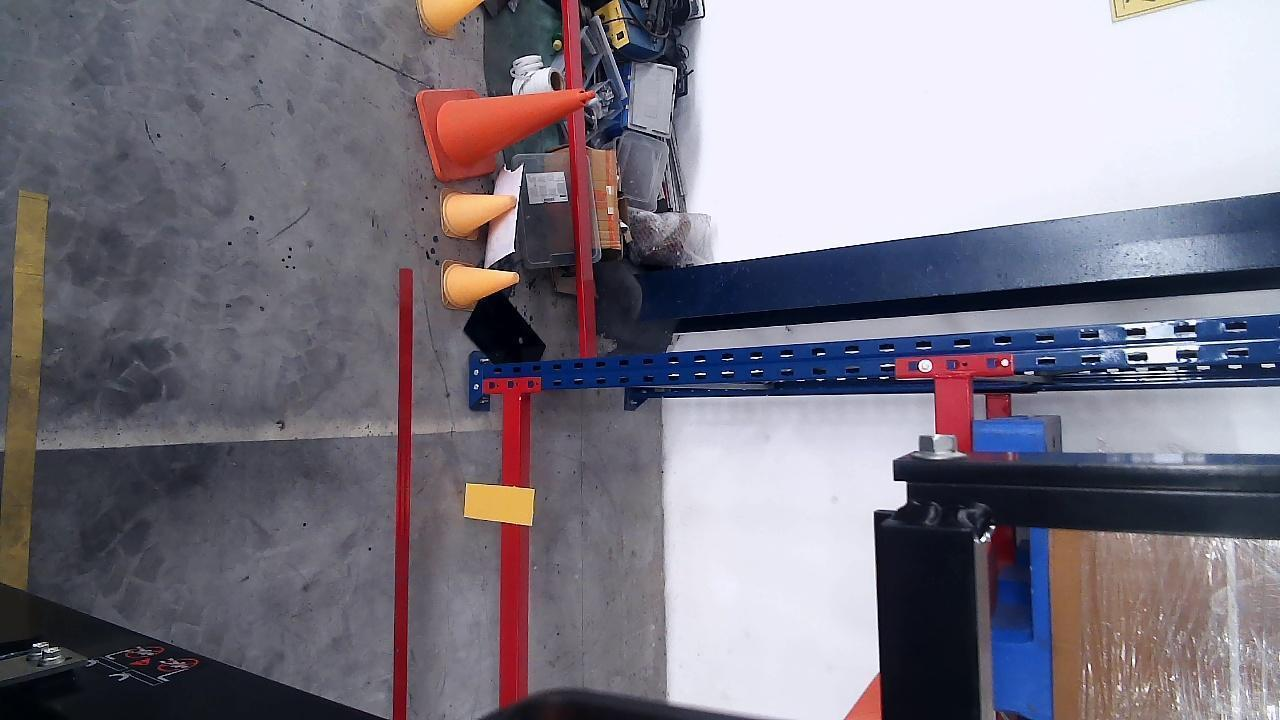red_line: (394, 268, 412, 720)
yellow_line: (0, 189, 46, 590)
